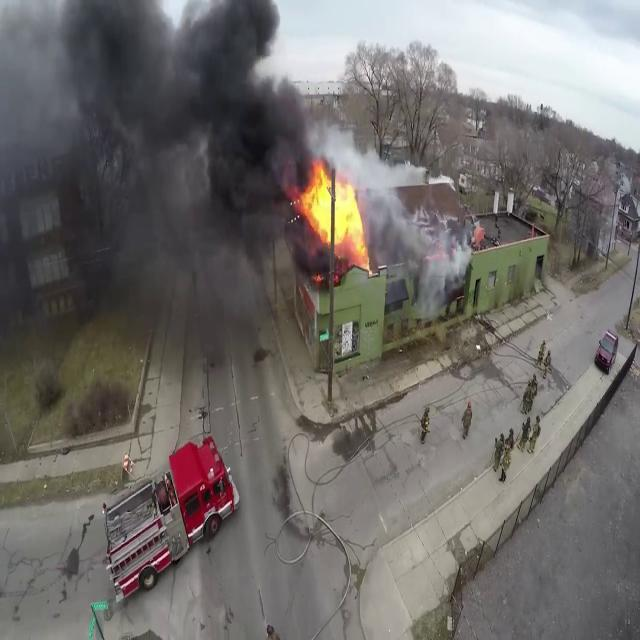Fire: (294, 154, 368, 268)
Smoke: (0, 0, 306, 396)
